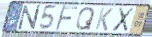5: (37, 4, 59, 32)
F: (54, 5, 79, 32)
K: (94, 7, 114, 32)
N: (17, 4, 42, 31)
Q: (75, 7, 97, 32)
X: (111, 7, 136, 33)
